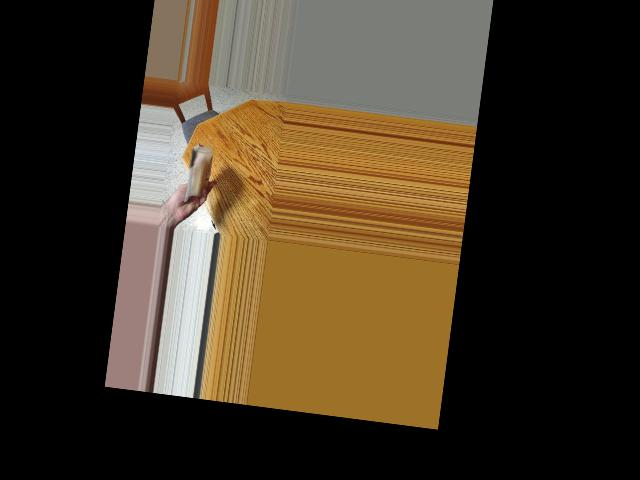cheese: (174, 146, 215, 201)
